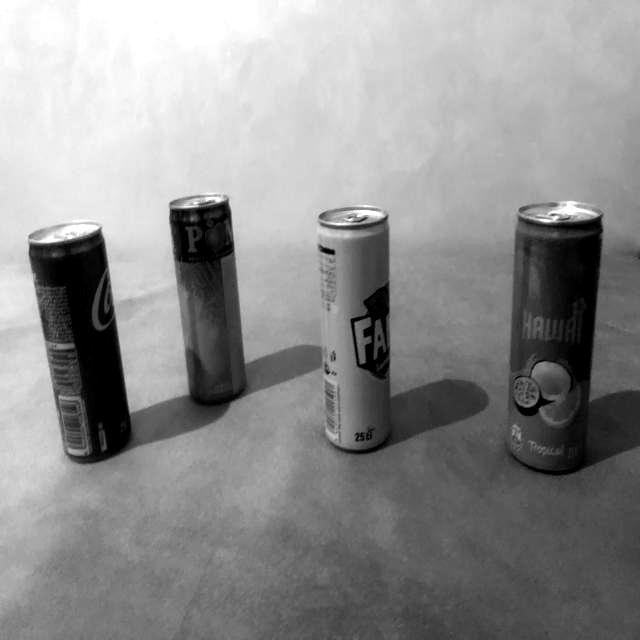metal: (496, 176, 609, 499), (22, 219, 140, 464), (311, 196, 404, 463), (162, 193, 250, 421)
